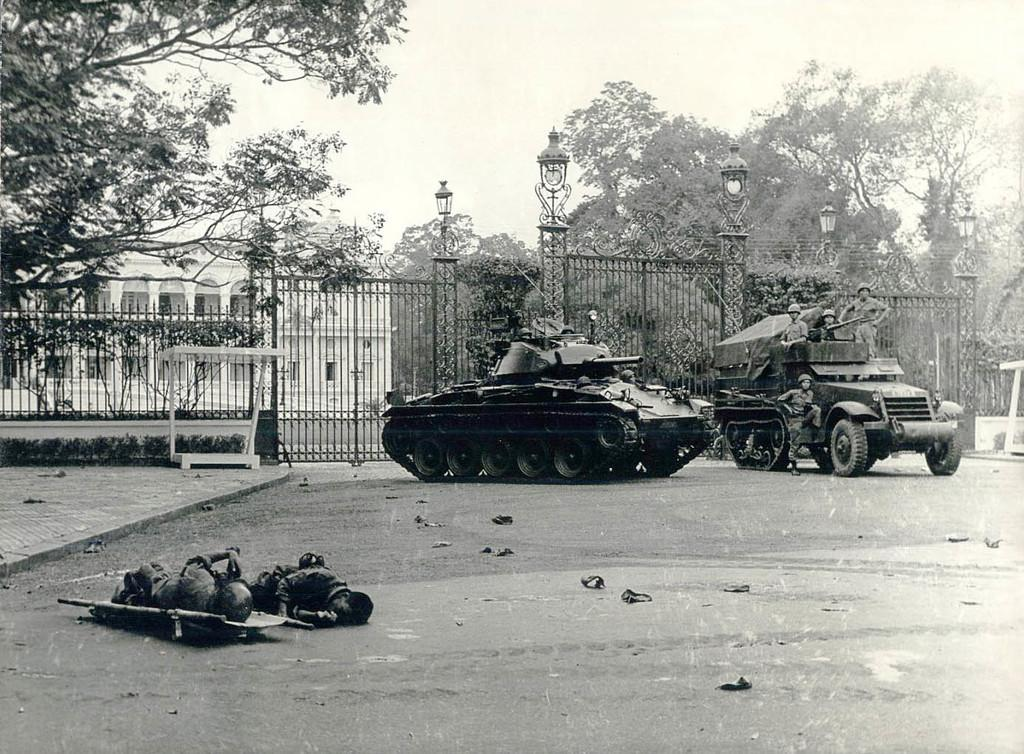Tank: (380, 308, 716, 481)
